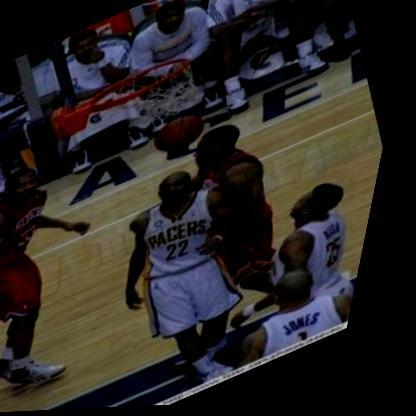basketball: (150, 107, 215, 160)
